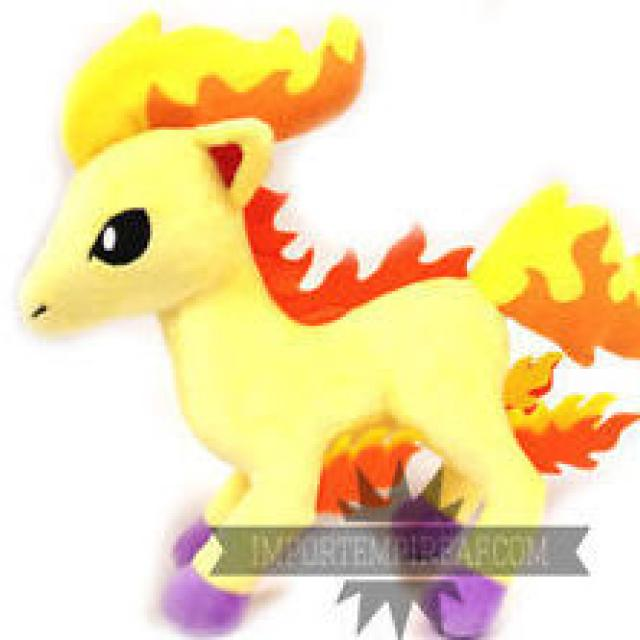Ponyta: (53, 28, 570, 600)
